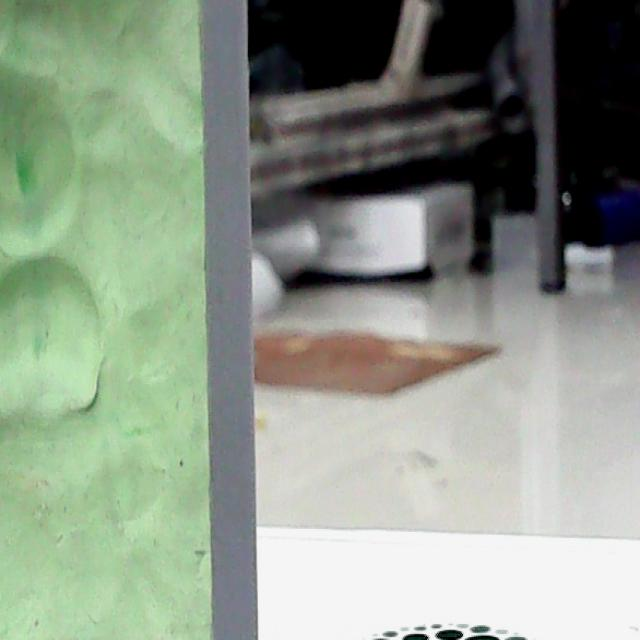block: (0, 0, 275, 640)
